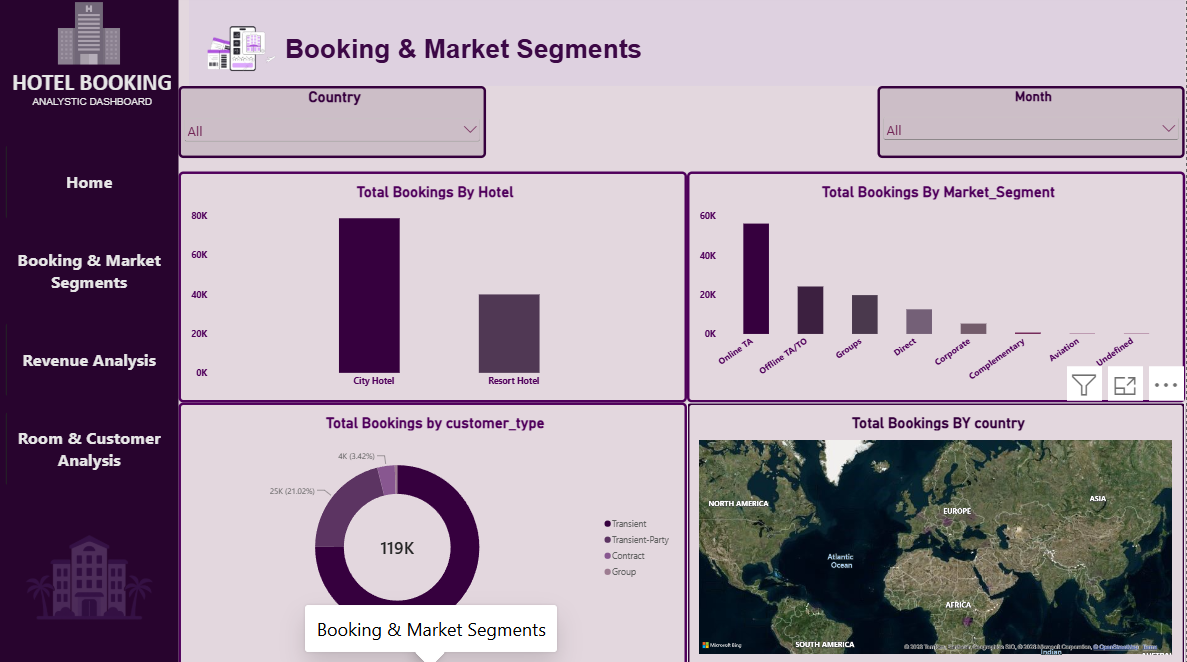

The page's visual inventory and layout, read from the dashboard file:
{"tool":"powerbi","page":{"name":"Booking & Market Segments","canvas":[1920,1080],"ordinal":1},"visuals":[{"type":"textbox","box":[10,0,280,280],"z":0},{"type":"clusteredColumnChart","title":"Total Bookings By Hotel","fields":{"Category":["Dim Hotel.hotel"],"Y":["My Measures.Total Bookings"]},"box":[289,279.3,823.4,374],"z":7000},{"type":"columnChart","title":"Total Bookings By Market_Segment","fields":{"Category":["Dim Market.market_segment"],"Y":["My Measures.Total Bookings"]},"box":[1112.4,279.3,806.4,374],"z":8000},{"type":"donutChart","fields":{"Category":["Dim Customer.customer_type"],"Y":["My Measures.Total Bookings"]},"box":[289,653.4,823.4,427.5],"z":9000},{"type":"slicer","title":"Month","fields":{"Values":["Dim Date.arrival_date_month"]},"box":[1420.9,140.9,497,116.6],"z":12000},{"type":"slicer","title":"Country","fields":{"Values":["Dim Country.country"]},"box":[289,140.9,497.9,116.6],"z":13000},{"type":"shape","box":[0,0,289,1080.8],"z":13001},{"type":"shape","box":[306,0,1612.8,140.9],"z":13002},{"type":"textbox","box":[461.5,55.9,590.2,85],"z":13003},{"type":"pageNavigator","box":[0,228.3,289,568.3],"z":13004},{"type":"image","box":[0,833.1,289,221],"z":13005},{"type":"image","box":[51,0,186,111],"z":13008},{"type":"textbox","box":[9.7,111.7,279.3,87.4],"z":13009},{"type":"image","box":[306,0,170,140.9],"z":13010},{"type":"map","title":"Total Bookings BY country","fields":{"Category":["Dim Country.Country"],"Size":["My Measures.Total Bookings"]},"box":[1112.4,653.4,806.4,427.5],"z":13011}]}

Visuals, with their boxes on the page's 1920x1080 design canvas (x1, y1, x2, y2). These are canvas units, not pixel positions in the 1187x662 screenshot, which may show the page scaled, cropped or inside an application window:
textbox: bbox(10, 0, 290, 280)
"Total Bookings By Hotel" clusteredColumnChart: bbox(289, 279, 1112, 653)
"Total Bookings By Market_Segment" columnChart: bbox(1112, 279, 1919, 653)
donutChart - Dim Customer.customer_type x My Measures.Total Bookings: bbox(289, 653, 1112, 1081)
"Month" slicer: bbox(1421, 141, 1918, 258)
"Country" slicer: bbox(289, 141, 787, 258)
shape: bbox(0, 0, 289, 1081)
shape: bbox(306, 0, 1919, 141)
textbox: bbox(462, 56, 1052, 141)
pageNavigator: bbox(0, 228, 289, 797)
image: bbox(0, 833, 289, 1054)
image: bbox(51, 0, 237, 111)
textbox: bbox(10, 112, 289, 199)
image: bbox(306, 0, 476, 141)
"Total Bookings BY country" map: bbox(1112, 653, 1919, 1081)
